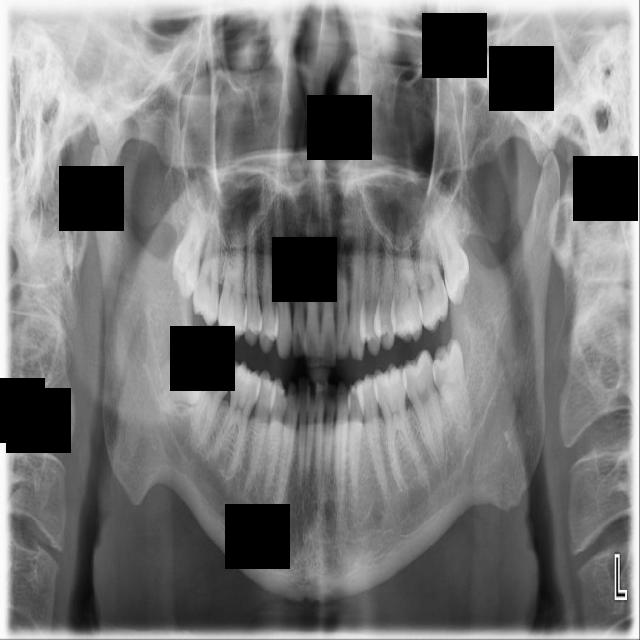3M ESPE Implant: (167, 192, 214, 300)
73: (600, 554, 606, 562)
BioHorizons Implant: (415, 195, 450, 333)
BioLife Implant: (429, 195, 476, 307)
Biomet 3i Implant: (426, 336, 478, 443)
Blue Sky Bio Implant: (398, 348, 453, 472)
Caries: (191, 200, 223, 326)
Implant: (186, 343, 239, 455)
Keystone Dental Implant: (153, 342, 208, 409)
